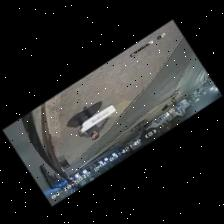person: (79, 116, 109, 139)
